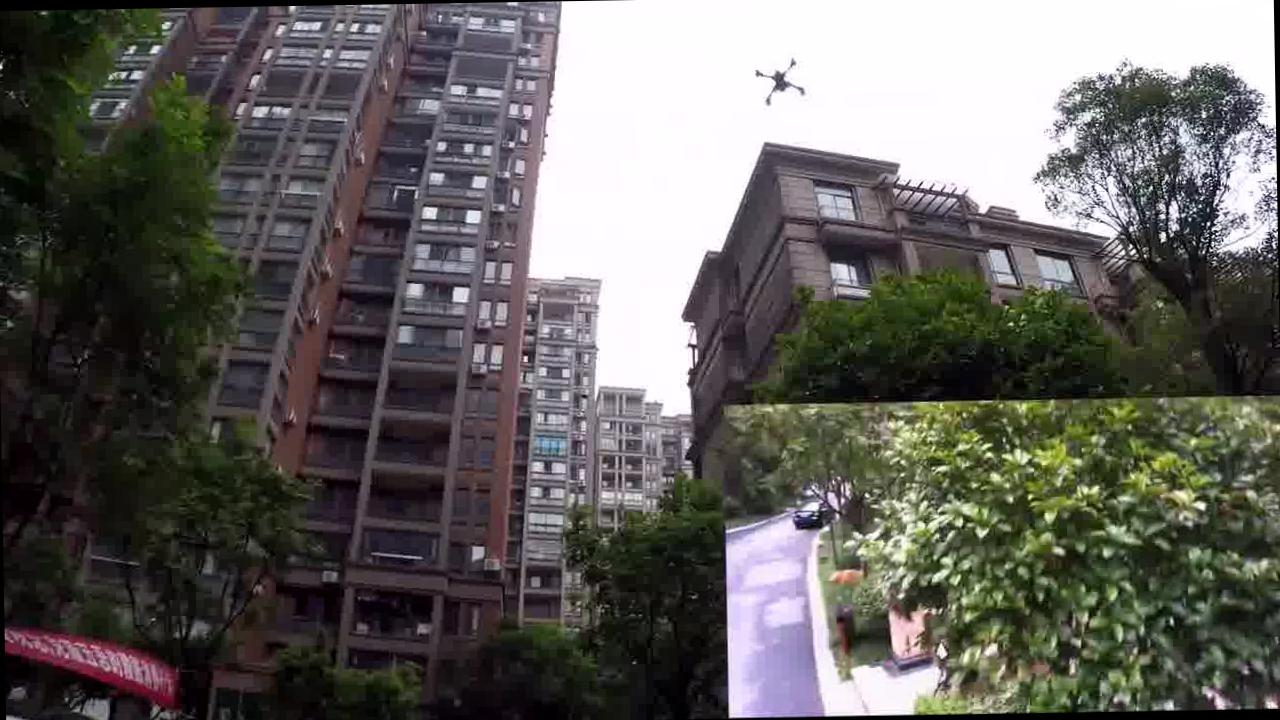drone: (726, 42, 819, 112)
